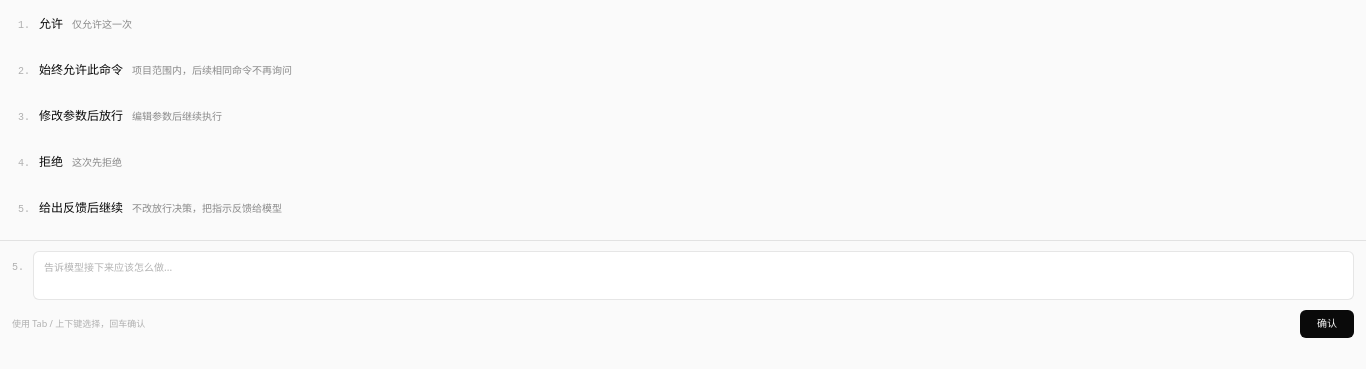
Test: DecisionForm · 提交中禁用与错误呈现 › 409 APPROVAL_ALREADY_RESOLVED → 就地展示「决策提交失败（code）：message」，不裸抛
Step 1. Click the button with test id "decision-option-approve-once" → coordinates (102, 24), box [6, 6, 1360, 50]
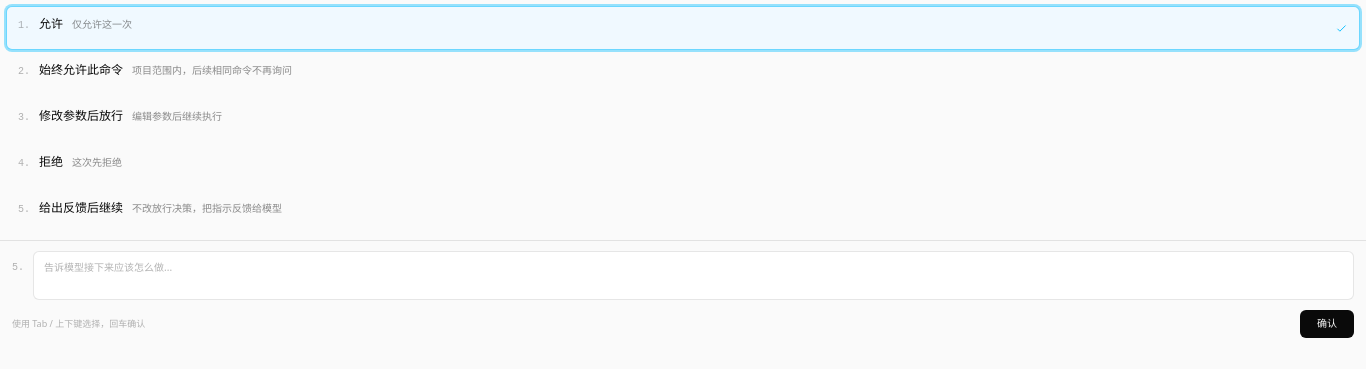
Step 2. Click the button with test id "decision-submit" → coordinates (1327, 324), box [1300, 310, 1354, 338]
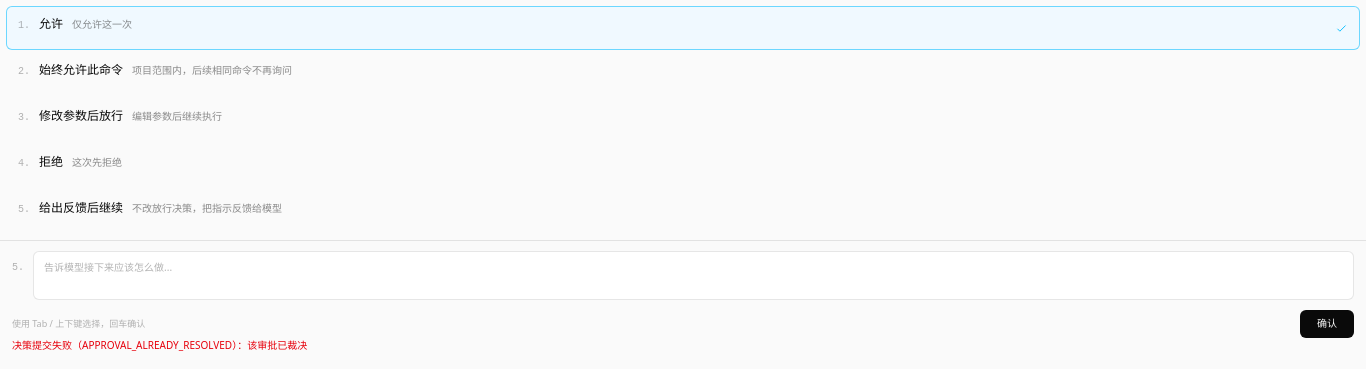
expect the message with test id "decision-error" reads "决策提交失败（APPROVAL_ALREADY_RESOLVED）：该审批已裁决": met, box [12, 338, 307, 352]
